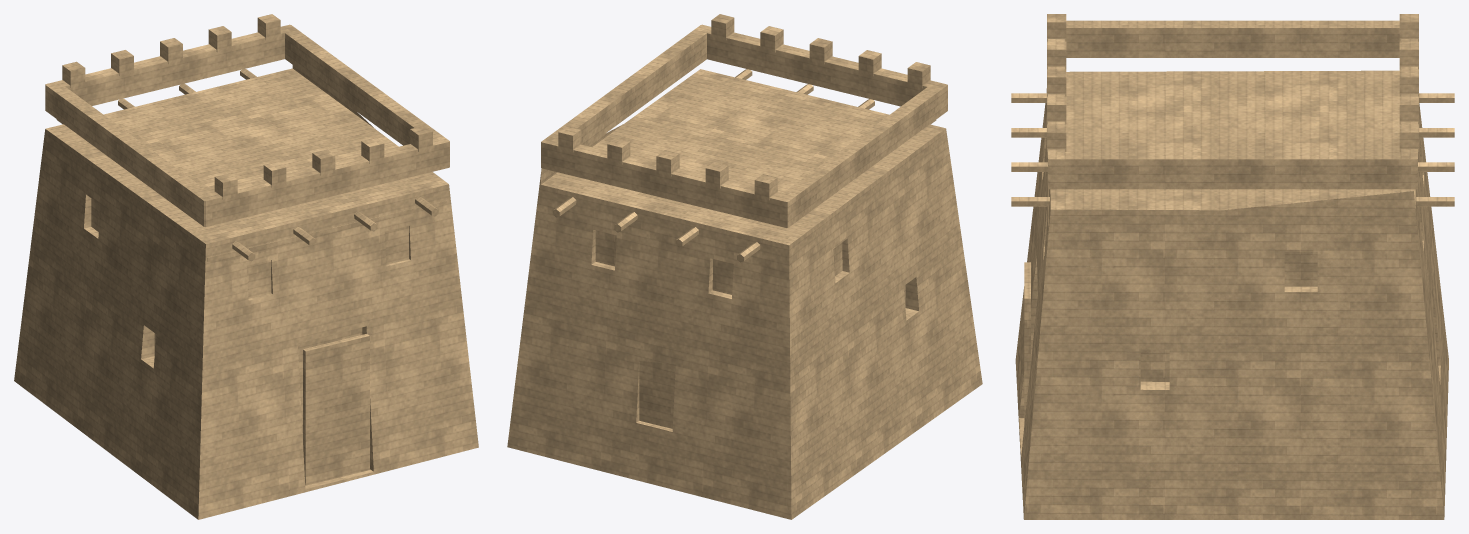
The model's file is house-a.glb.
The picture shows the model from 3 angles, left to right: view 1: azimuth 30°, elevation 25°; view 2: azimuth 150°, elevation 25°; view 3: azimuth 270°, elevation 25°; orthographic projection. The views are drawn at different scales.
Parts seen in each view (by area): view 1: house-a; view 2: house-a; view 3: house-a.
Part boxes in pixels (x1=…): house-a: x1=14, y1=14, x2=478, y2=519; house-a: x1=507, y1=14, x2=982, y2=519; house-a: x1=1011, y1=14, x2=1454, y2=519.
Bounding box in the file's own units: 3.95 × 4.17 × 4.55.
Materials: 1 (1 with a texture image).
